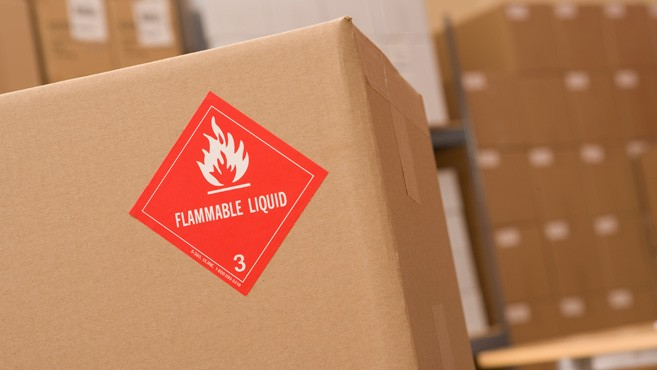FlammableLiquid: (141, 103, 317, 281)
